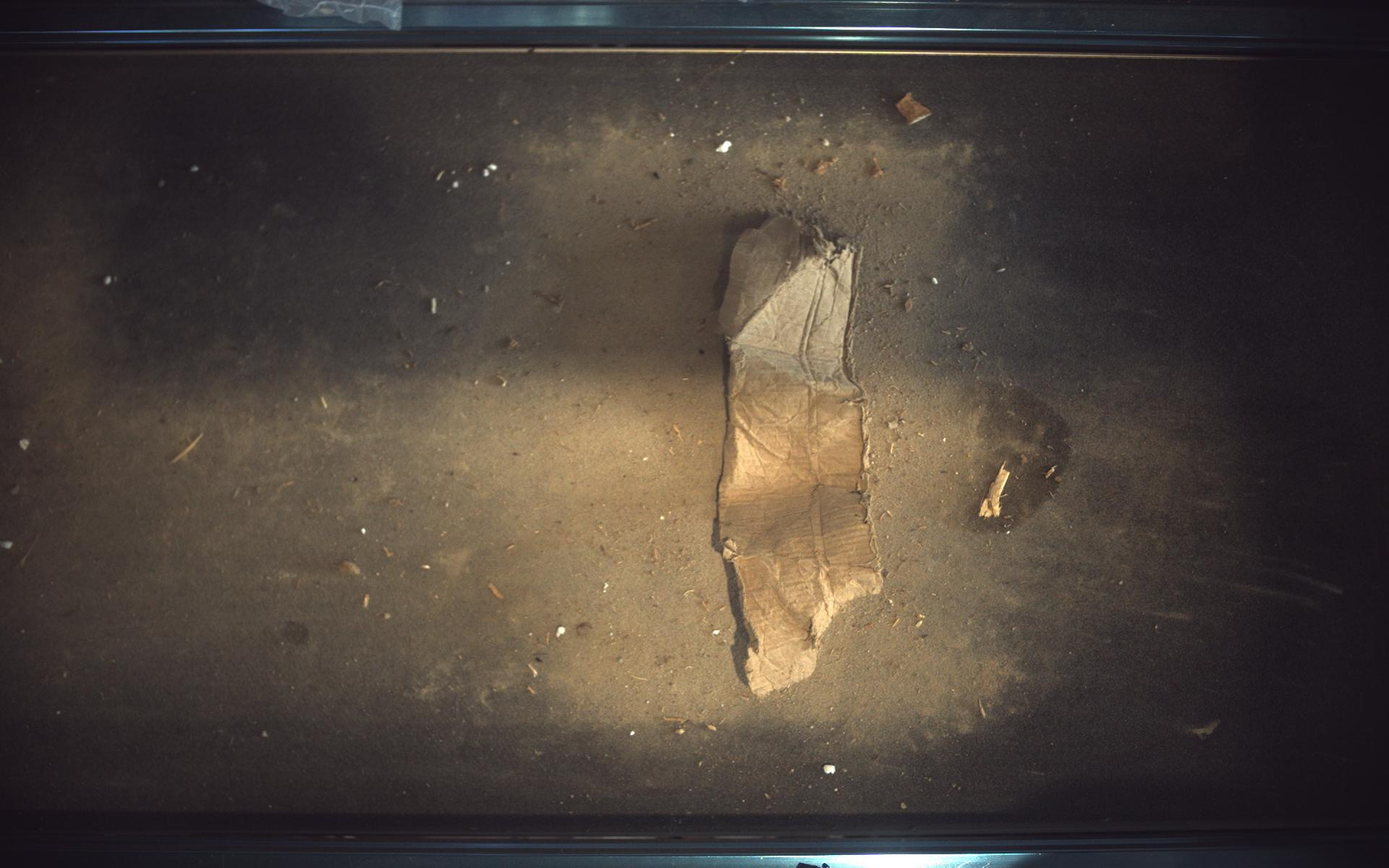general_w: (719, 214, 884, 697)
